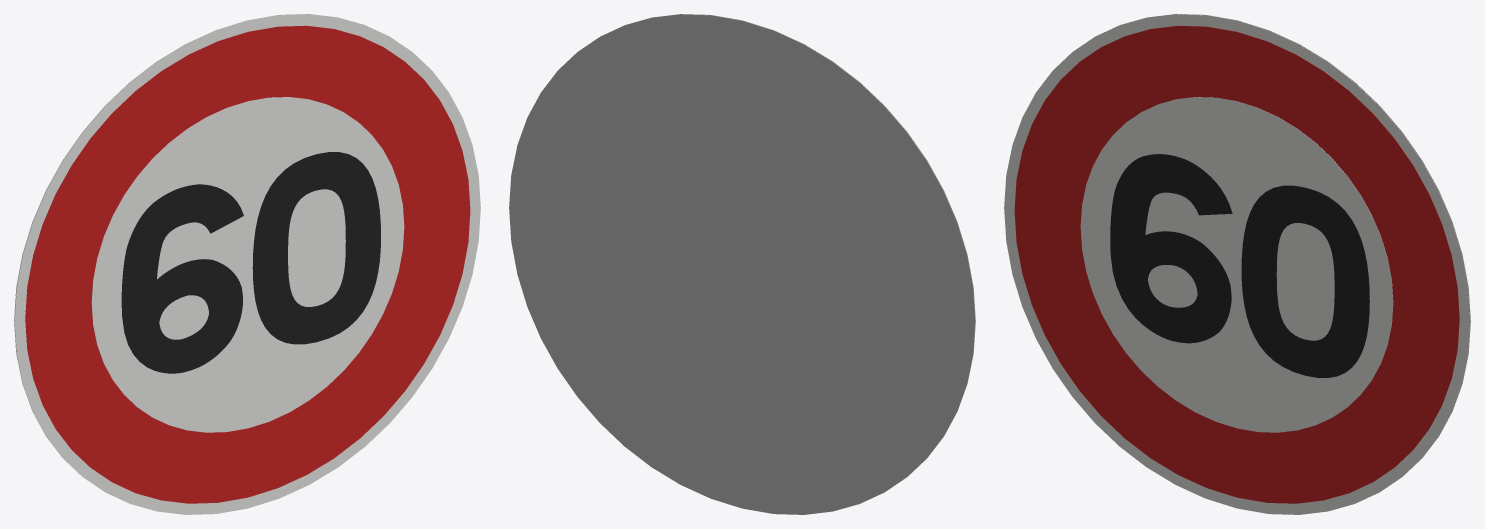
3 views of the same model, side by side, from view 1: azimuth 30°, elevation 25°; view 2: azimuth 150°, elevation 25°; view 3: azimuth 330°, elevation 25° (orthographic).
Visible parts, largest first — view 1: B14-60_p01, B14-60_p02, B14-60_p00, B14-60_p03, B14-60_p04, B14-60_dos; view 2: B14-60_dos, B14-60_p00; view 3: B14-60_p01, B14-60_p02, B14-60_p00, B14-60_p03, B14-60_p04, B14-60_dos.
Part boxes in pixels (left/top/right/bottom): B14-60_p01: left=25, top=25, right=470, bottom=503; B14-60_p02: left=91, top=97, right=404, bottom=432; B14-60_p00: left=14, top=14, right=480, bottom=514; B14-60_p03: left=252, top=152, right=380, bottom=344; B14-60_p04: left=121, top=184, right=243, bottom=373; B14-60_dos: left=14, top=14, right=385, bottom=473; B14-60_dos: left=509, top=14, right=975, bottom=514; B14-60_p00: left=604, top=14, right=975, bottom=473; B14-60_p01: left=1014, top=25, right=1459, bottom=503; B14-60_p02: left=1080, top=97, right=1393, bottom=432; B14-60_p00: left=1004, top=14, right=1470, bottom=514; B14-60_p03: left=1241, top=185, right=1369, bottom=377; B14-60_p04: left=1110, top=154, right=1232, bottom=343; B14-60_dos: left=1099, top=14, right=1470, bottom=473.
Bounding box in the file's own units: 0.85 × 0.8498 × 0.0035.
